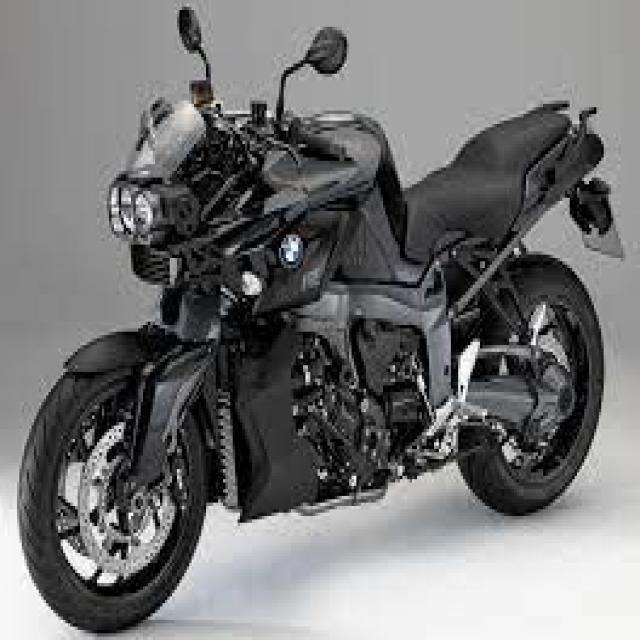Bike: (17, 6, 640, 626)
